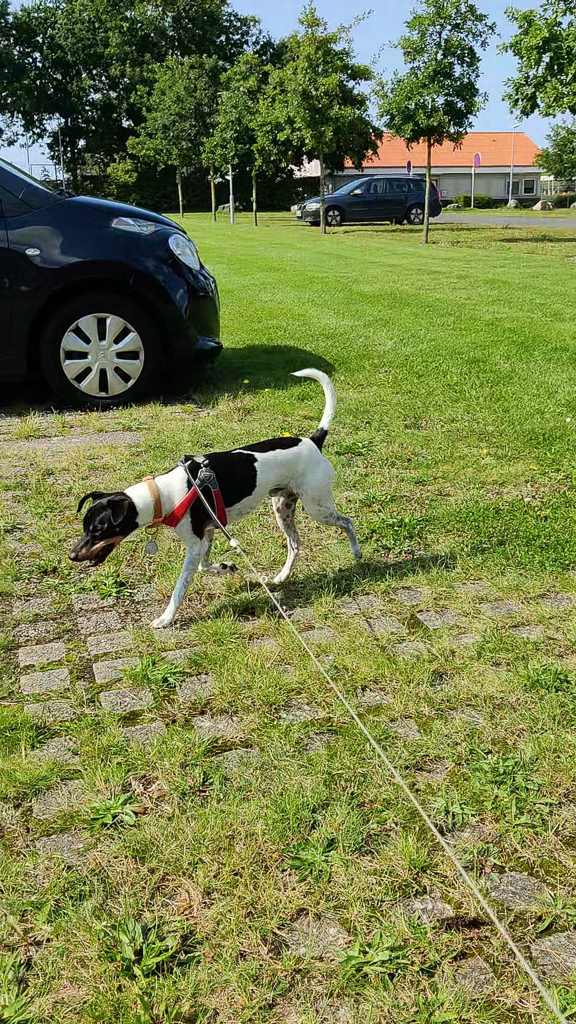Dog: (59, 356, 378, 644)
